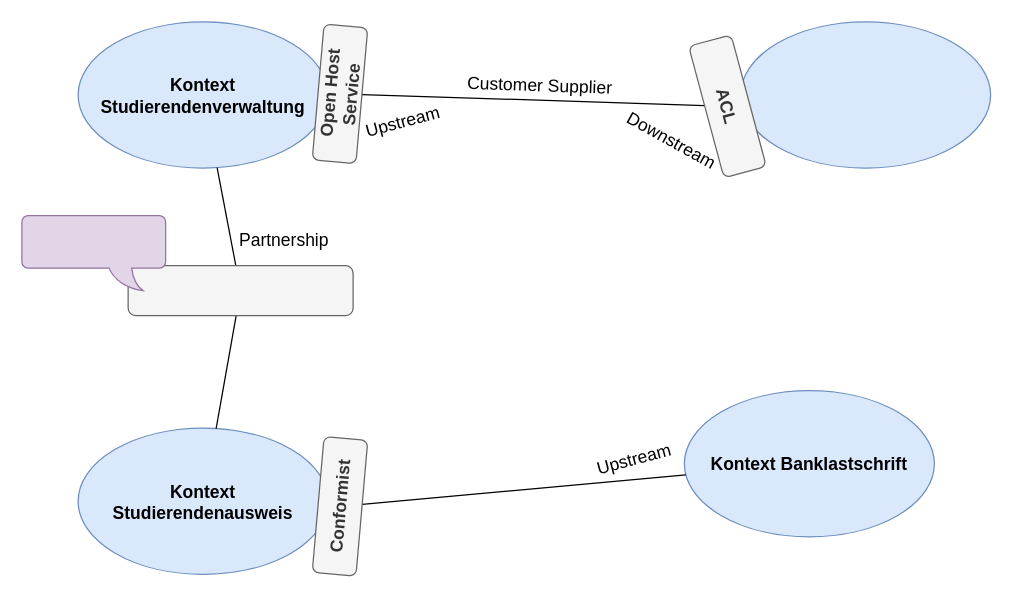
The diagram is 1013 pixels wide and 599 high, and some of its shapes have lost their labels. Each missing label, with the centre of its shape:
"Kontext Bibliothek" goes at (x=865, y=94).
"Shared Kernel" goes at (x=240, y=290).
"Studierende" goes at (x=93, y=252).
